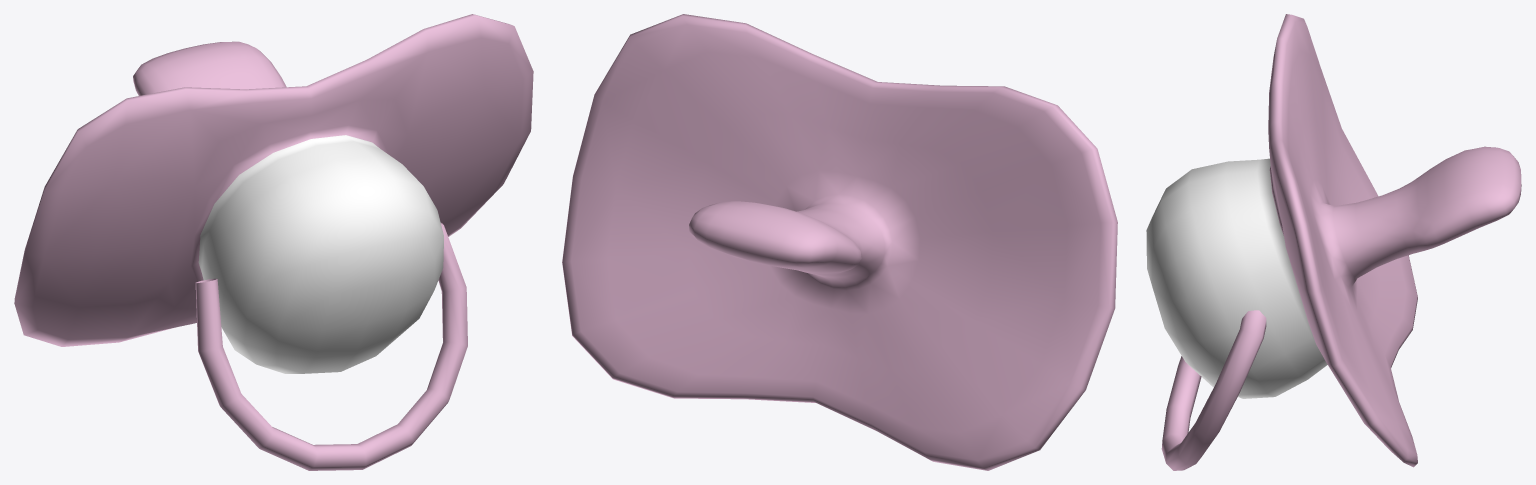
The picture shows the model from 3 angles, left to right: view 1: azimuth 30°, elevation 25°; view 2: azimuth 150°, elevation 25°; view 3: azimuth 270°, elevation 25°; orthographic projection. The views are drawn at different scales.
Visible parts, largest first — view 1: pacifer; view 2: pacifer; view 3: pacifer.
Part boxes in pixels (bbox=[...]): pacifer: bbox=[14, 14, 533, 470]; pacifer: bbox=[562, 14, 1117, 470]; pacifer: bbox=[1146, 14, 1521, 470].
Size of the model in its own units: 0.4251 by 0.2959 by 0.2791.
